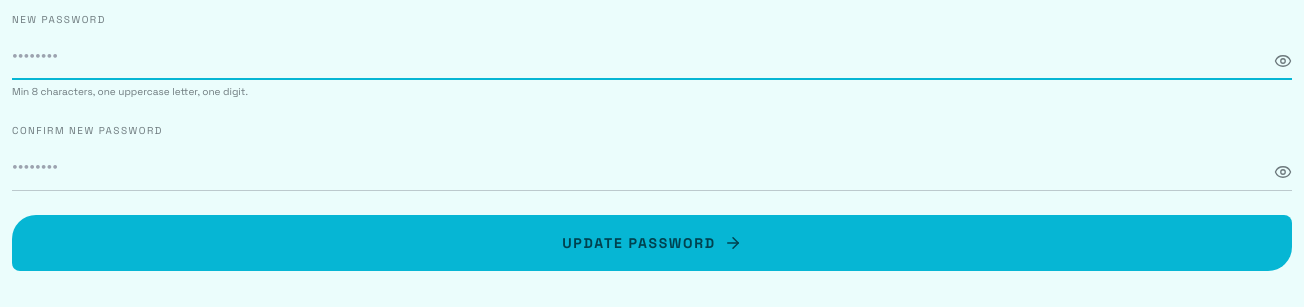
Test: ResetPasswordForm — validation › shows missing uppercase error
Type "password1" into the password field labelled "New password".
click(652, 56); type("password1")  # box [12, 31, 1292, 80]
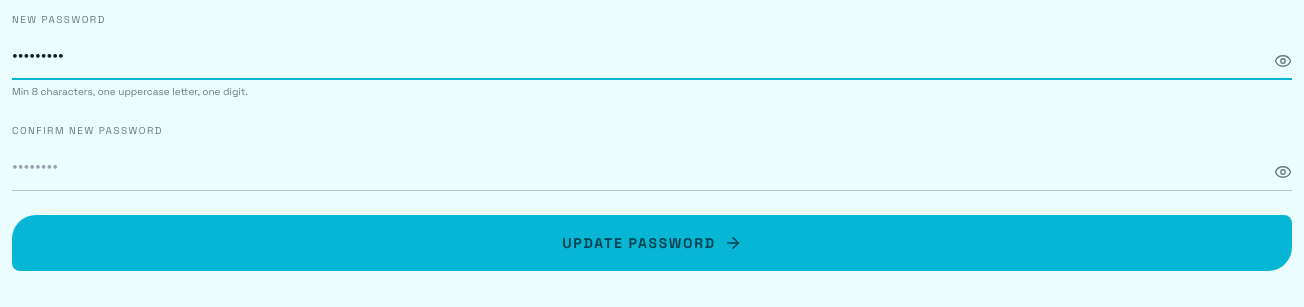
Click the button "Update password".
click(652, 243)  # box [12, 215, 1292, 271]
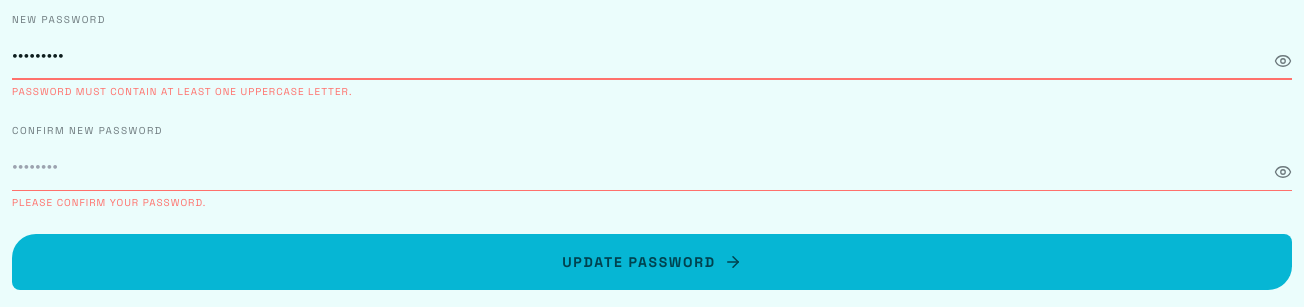
Expected: the text "Password must contain at least one uppercase letter." is shown, [12, 85, 352, 98]
